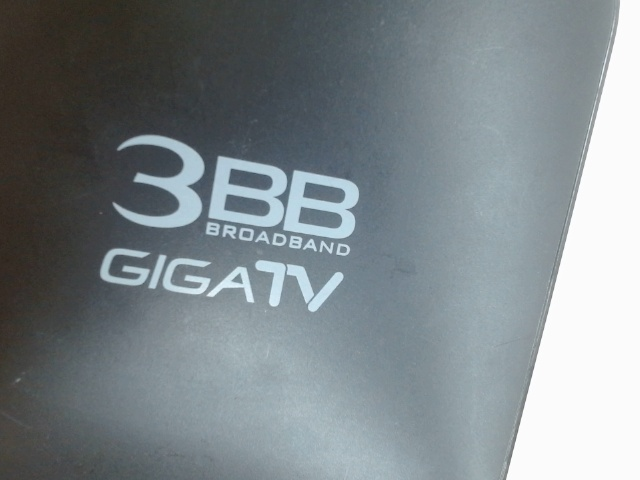AG_3BB: (79, 120, 363, 329)
